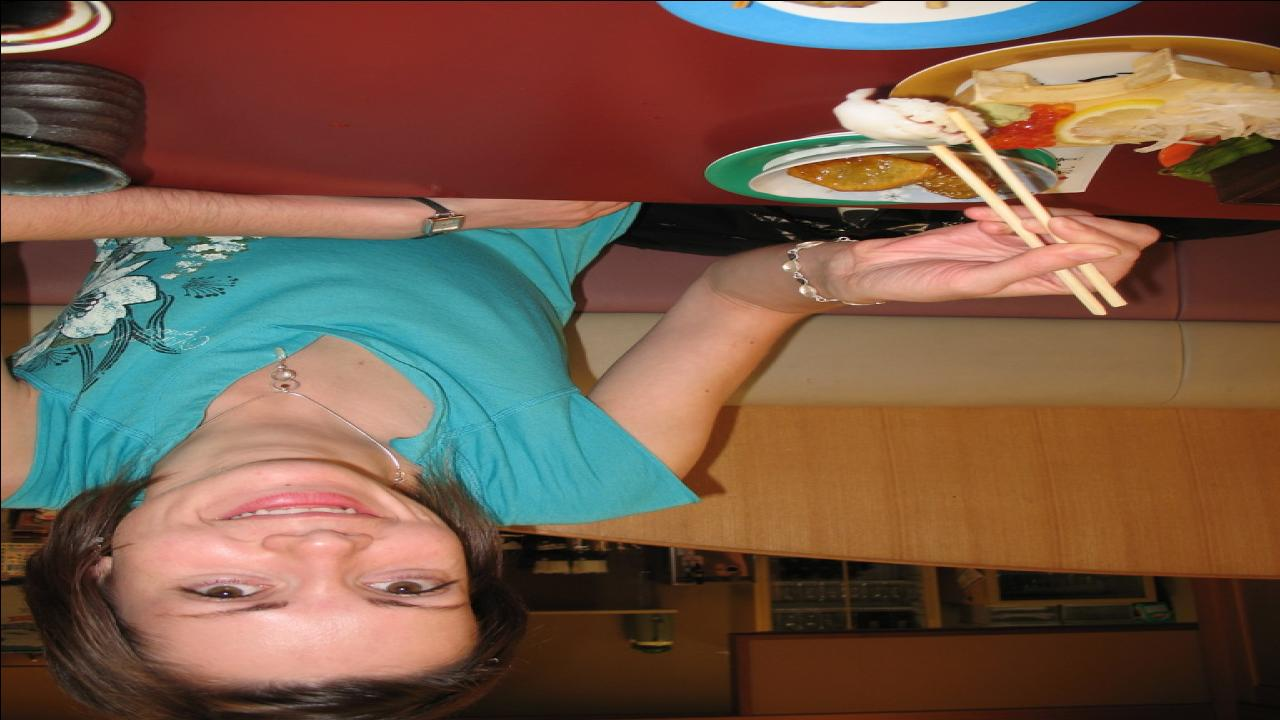chopstick: (924, 109, 1116, 315)
